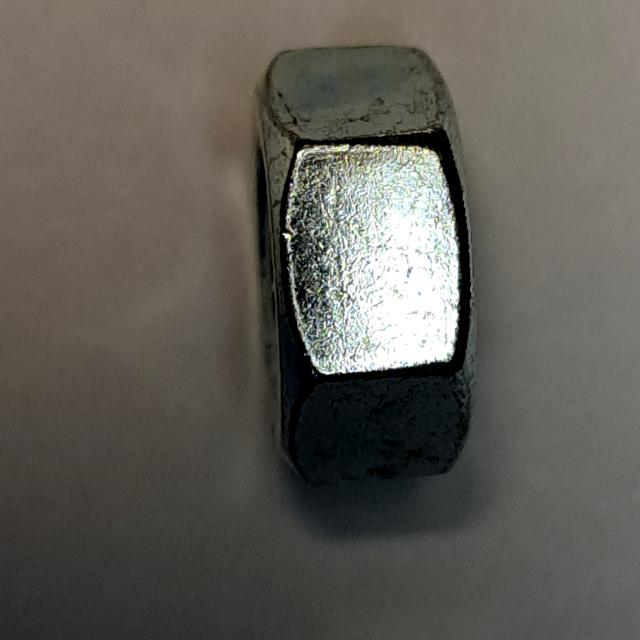Side_Excellent: (231, 28, 497, 513)
